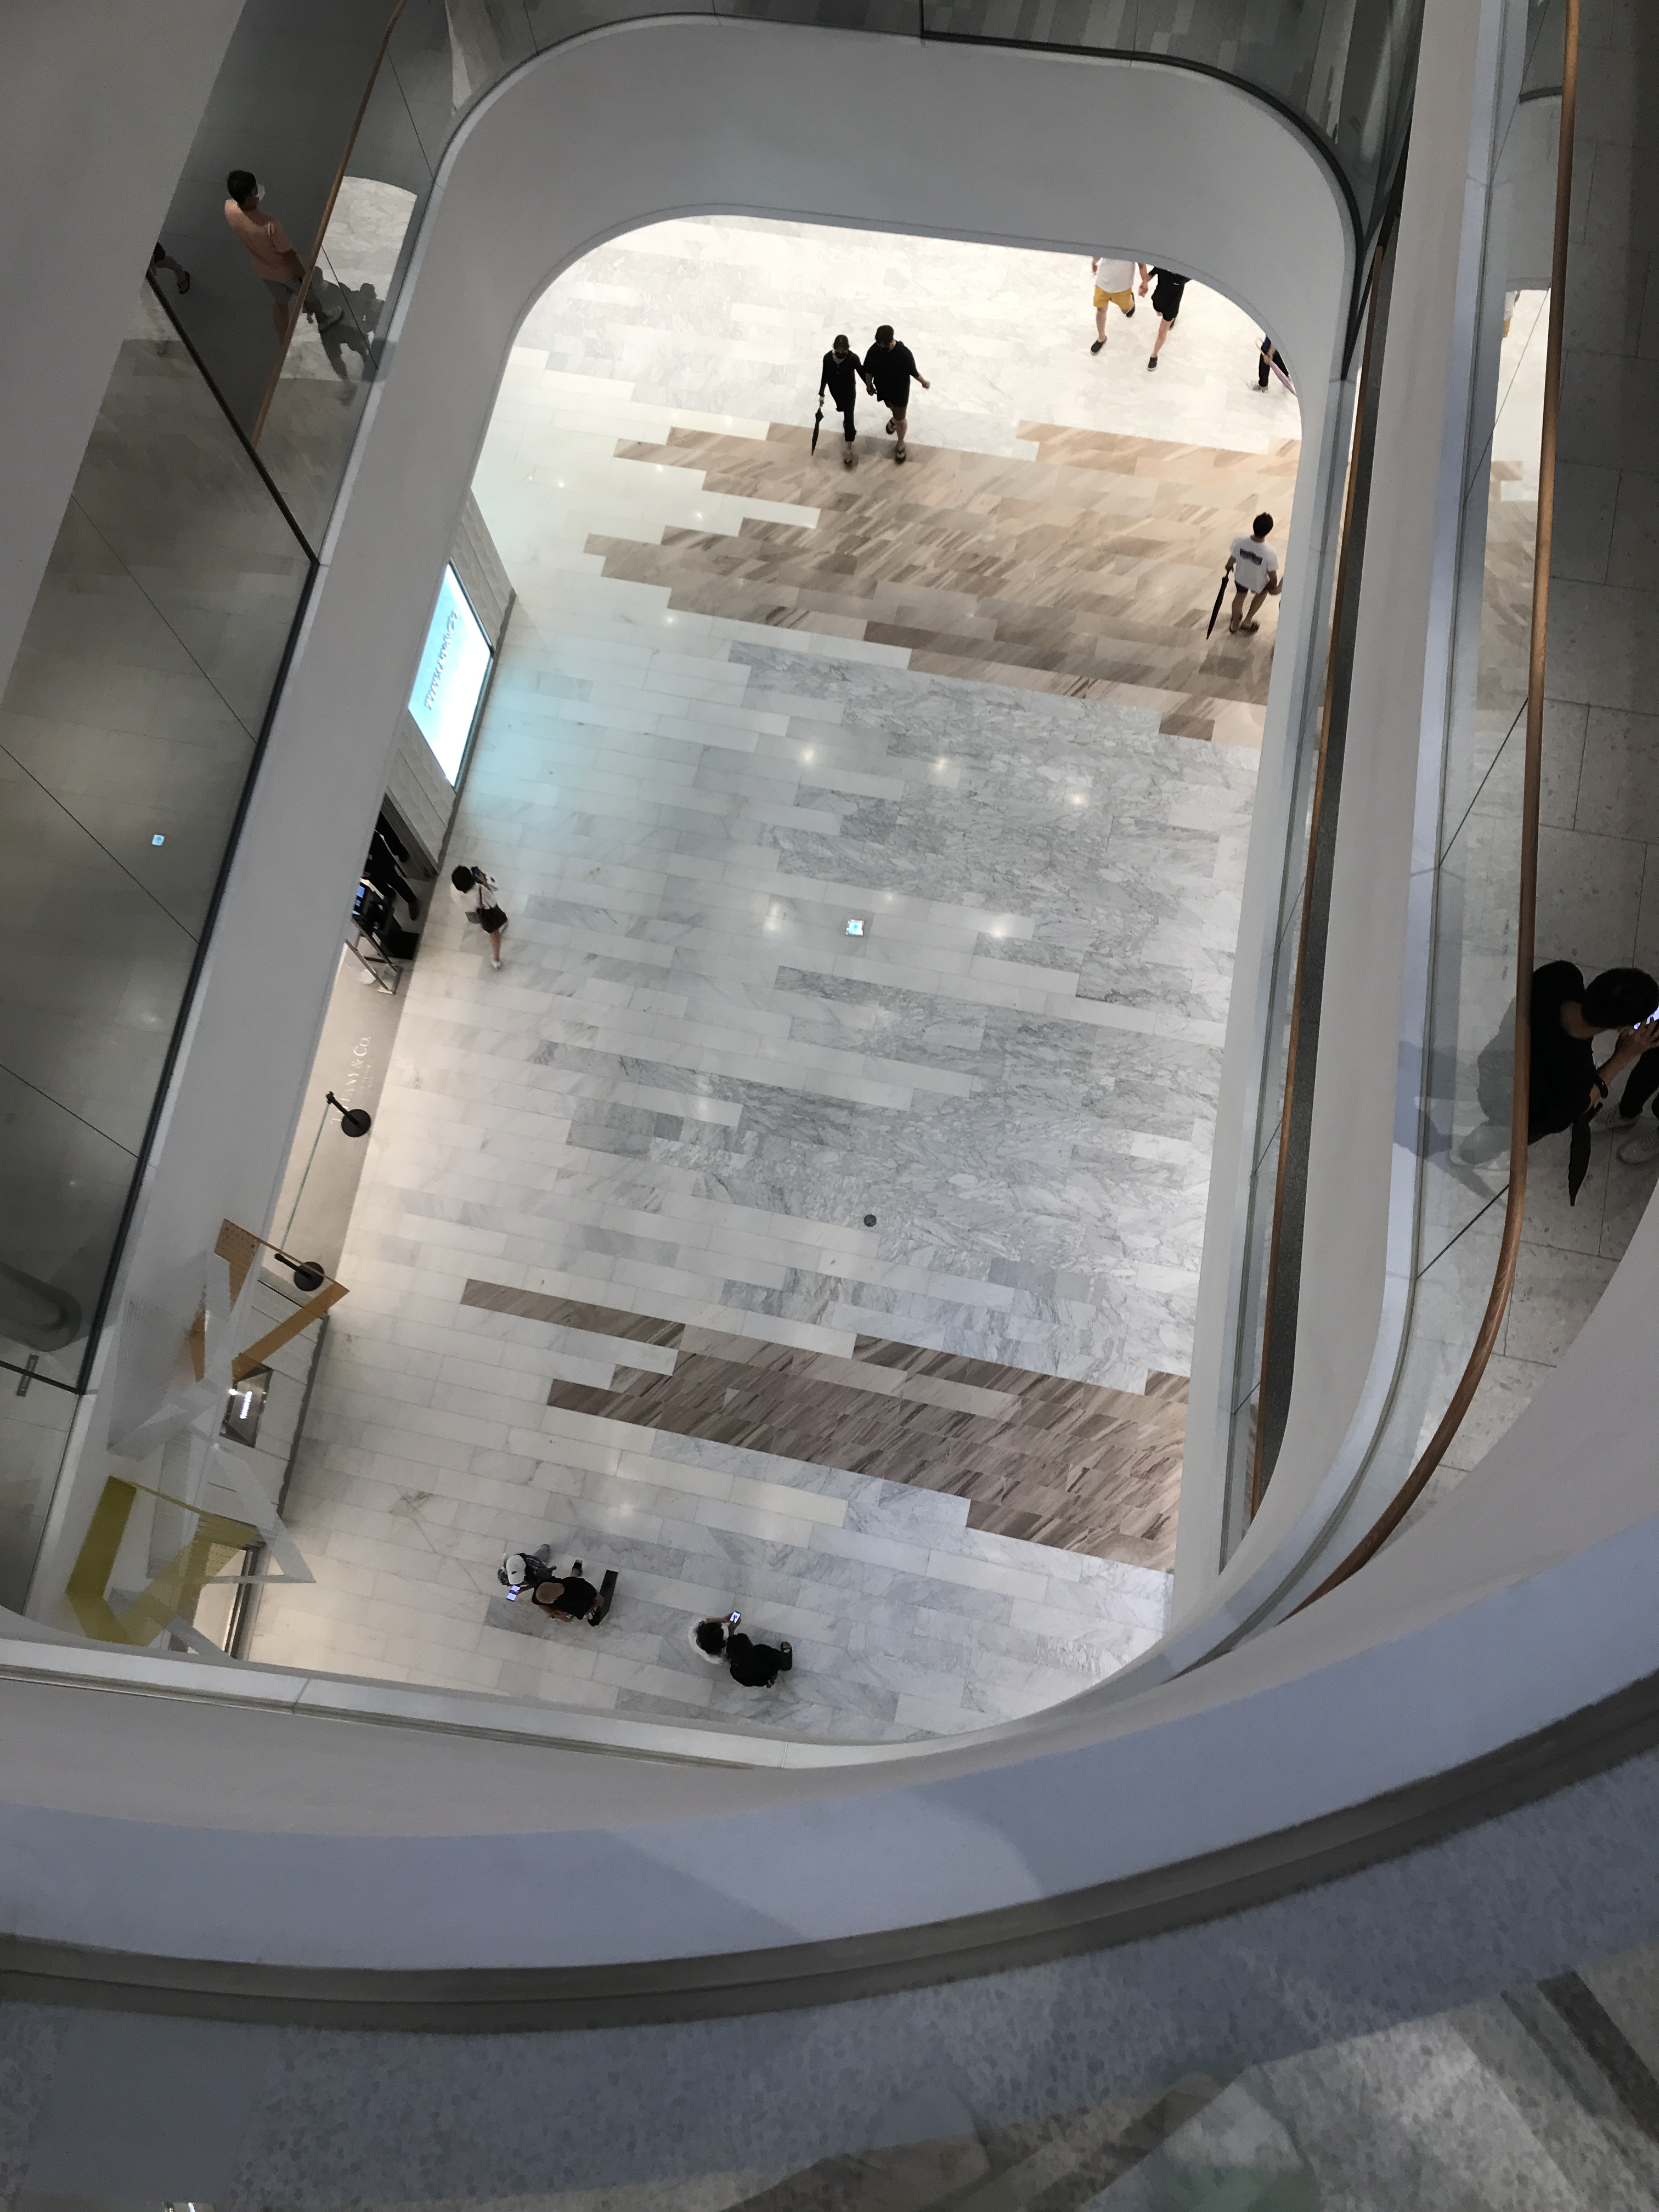person: (1466, 955, 1655, 1199), (216, 172, 317, 342), (862, 325, 930, 469), (448, 864, 512, 970), (1224, 511, 1278, 635), (817, 335, 864, 469), (1088, 257, 1148, 354), (533, 1558, 613, 1628), (1139, 264, 1194, 368), (726, 1636, 795, 1689), (689, 1616, 733, 1667), (498, 1546, 551, 1591)
